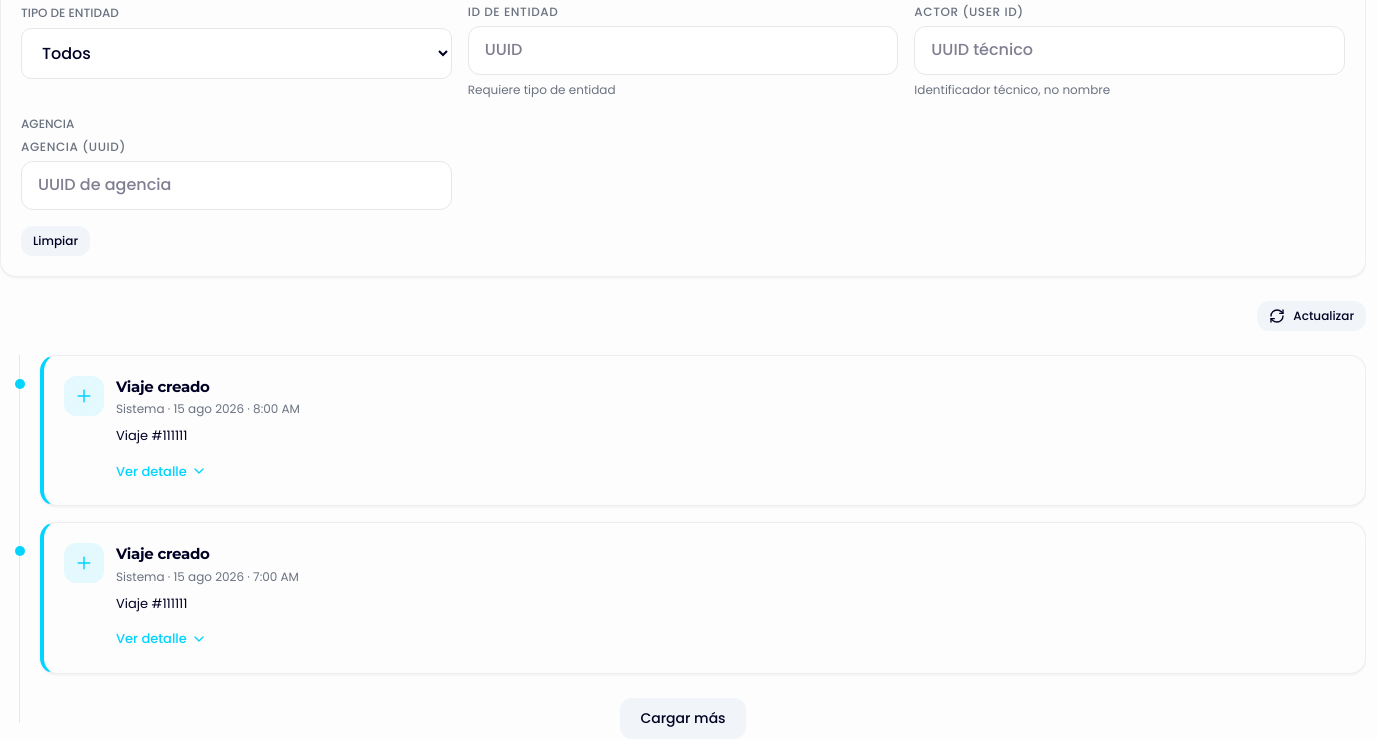
Test case: AuditFeed › loads initial page ordered and supports load more + dedupe
The image size is (1378, 739).
(page scrolled)
Expected: the number of elements with test id "audit-event-card" is 2, [40,355,1366,506]; [40,522,1366,674]
Click the button "Cargar más".
click(683, 718)  # box [620,698,746,738]
(page scrolled)
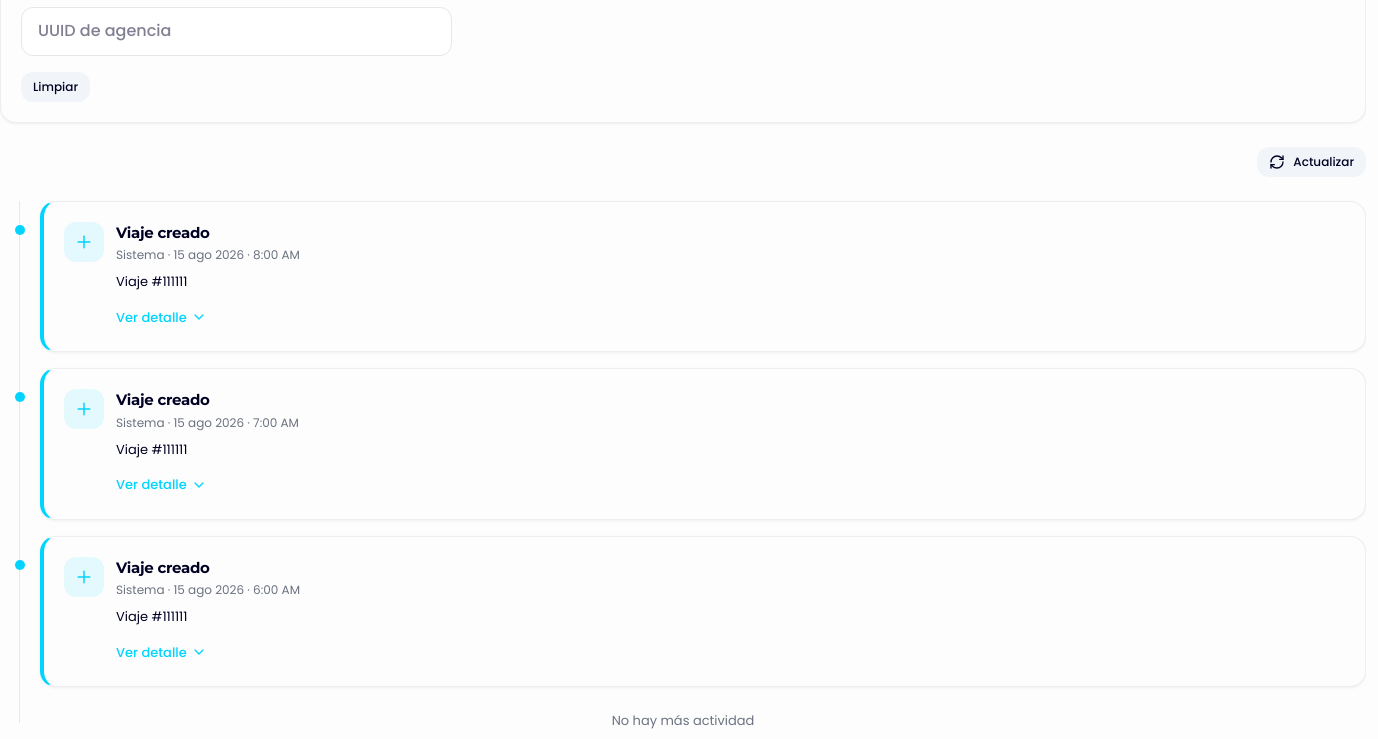
Expected: the number of elements with test id "audit-event-card" is 3, [40,201,1366,352]; [40,368,1366,520]; [40,536,1366,687]
Expected: the text "No hay más actividad" is shown, [612,711,754,730]
